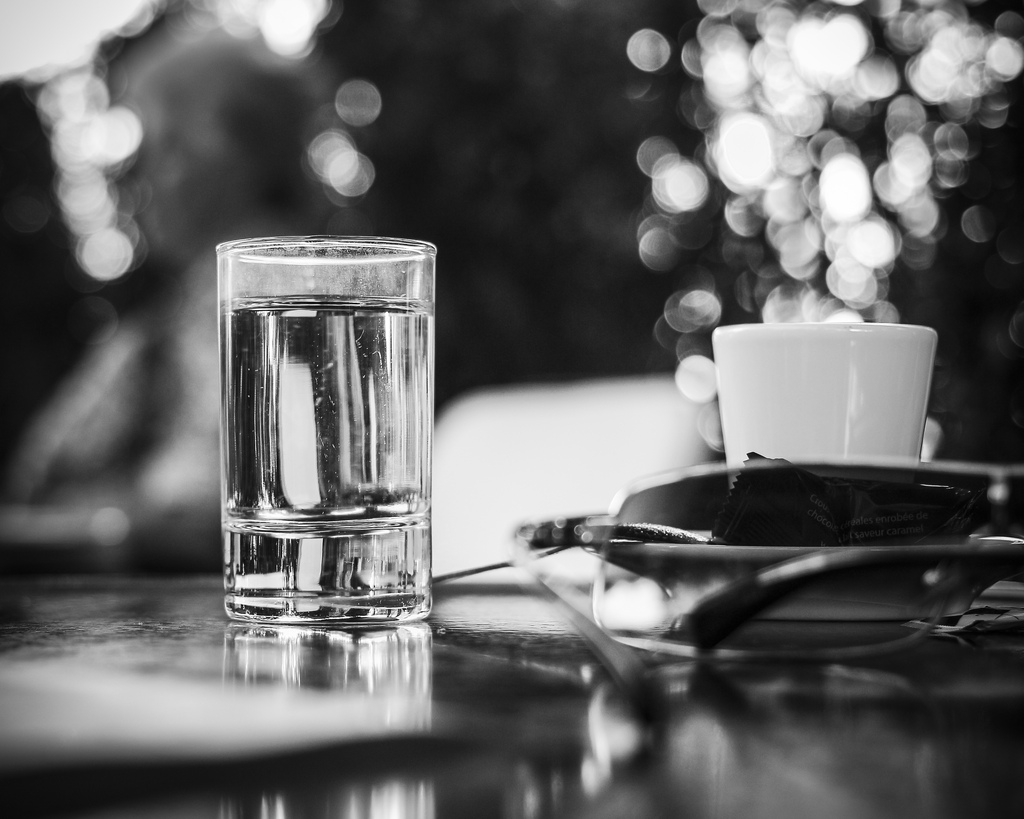glass of water: (193, 224, 451, 638)
